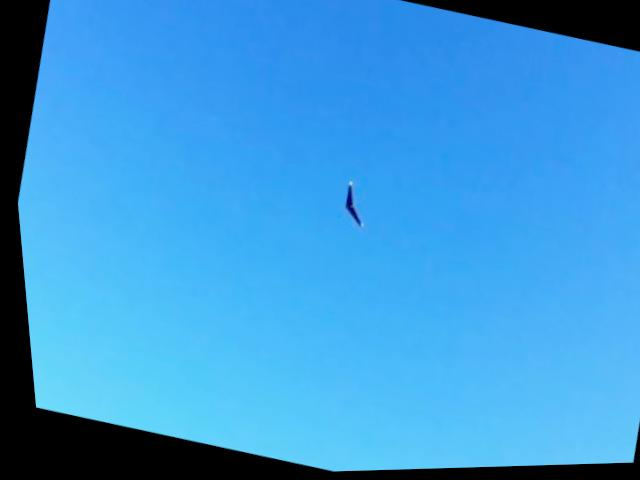flying wing: (322, 173, 375, 237)
